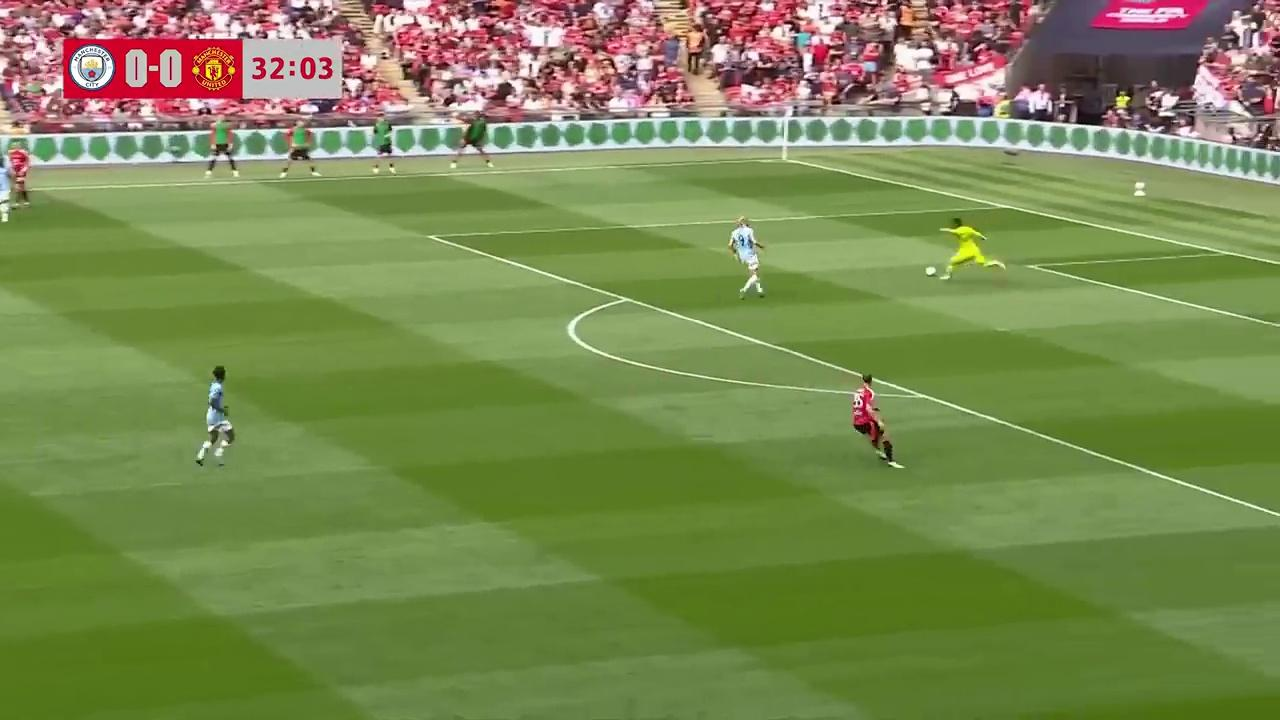ball: (928, 267, 938, 277)
player: (850, 375, 904, 467), (940, 217, 1004, 279), (194, 366, 231, 466), (729, 215, 766, 300), (8, 146, 33, 201), (0, 165, 11, 224)
